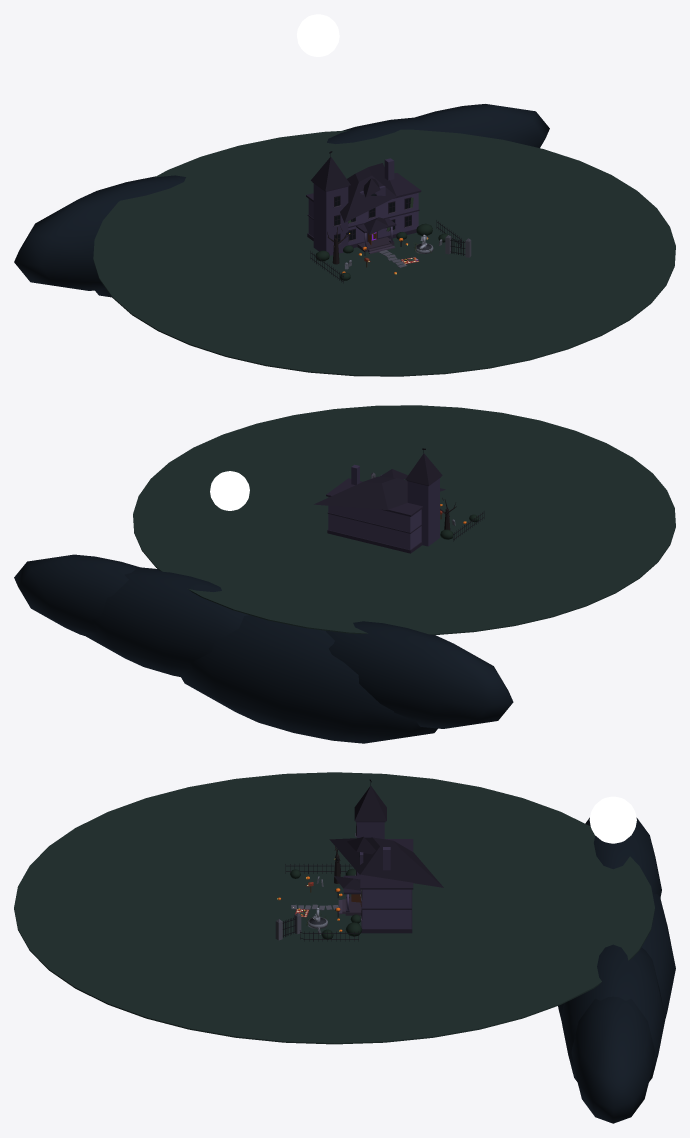
Rendered from exterior.glb.
3 renders of one model, top to bottom at view 1: azimuth 30°, elevation 25°; view 2: azimuth 150°, elevation 25°; view 3: azimuth 270°, elevation 25°, orthographic. The views are drawn at different scales.
Parts seen in each view (by area): view 1: ground, hill, hill.003, tower, roof, block, moon, hill.002, towerroof; view 2: ground, hill.001, hill, hill.002, hill.003, block, roof, tower, moon, towerroof, cornice; view 3: ground, hill.003, hill.002, roof, hill, hill.001, block, moon, towerroof, cornice.
Part boxes in pixels (<box>): ground: <box>93,129,675,376</box>; hill: <box>14,175,185,290</box>; hill.003: <box>416,104,549,147</box>; tower: <box>313,183,348,255</box>; roof: <box>340,163,396,222</box>; block: <box>308,193,418,245</box>; moon: <box>297,14,339,56</box>; hill.002: <box>327,117,430,143</box>; towerroof: <box>311,156,350,191</box>; ground: <box>133,405,675,635</box>; hill.001: <box>180,615,437,743</box>; hill: <box>326,621,513,728</box>; hill.002: <box>81,567,248,676</box>; hill.003: <box>14,554,139,635</box>; block: <box>328,497,421,549</box>; roof: <box>314,476,445,509</box>; tower: <box>407,478,439,546</box>; moon: <box>210,471,249,510</box>; towerroof: <box>405,453,442,485</box>; cornice: <box>326,478,422,516</box>; ground: <box>14,772,654,1044</box>; hill.003: <box>571,996,654,1123</box>; hill.002: <box>561,944,665,1081</box>; roof: <box>329,837,443,887</box>; hill: <box>585,817,661,897</box>; hill.001: <box>558,894,675,1017</box>; block: <box>362,889,411,928</box>; moon: <box>589,796,636,843</box>; towerroof: <box>354,785,386,821</box>; cornice: <box>360,839,413,889</box>.
Size of the model in its own units: 99.2 by 44.7 by 95.
